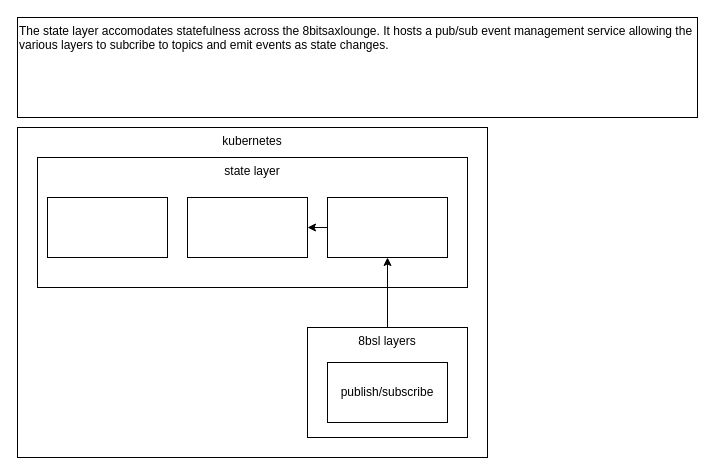
Some shapes in this 715 by 475 pixel diagram are drawn without their labels. The centre of each missing label's shape, as x and y in pixels:
"Container state nats w/ jetstream" belongs at pixel 247 227.
"Service ClusterIp 4222 > 4222" belongs at pixel 387 227.
"Service headless dns" belongs at pixel 107 227.
